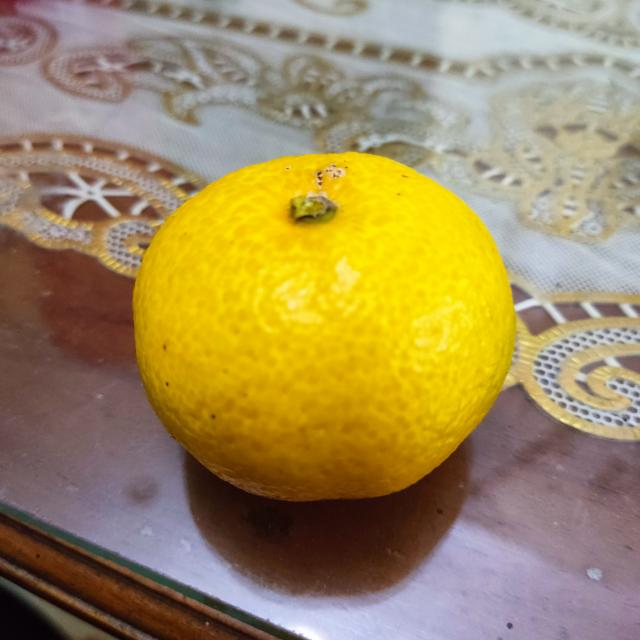orange: (135, 148, 514, 500)
